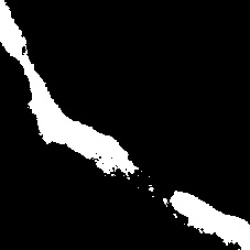crack: (2, 1, 140, 179), (170, 190, 247, 249)
